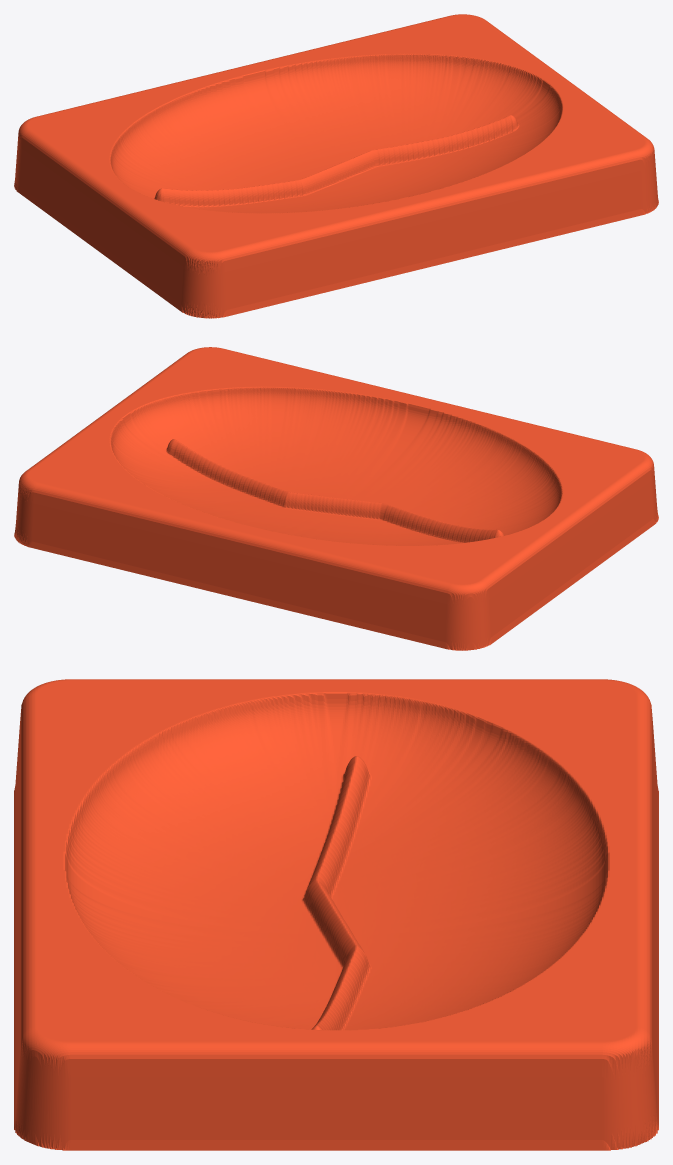
File: mold.glb
3 renders of one model, top to bottom at view 1: azimuth 30°, elevation 25°; view 2: azimuth 150°, elevation 25°; view 3: azimuth 270°, elevation 25°, orthographic. The views are drawn at different scales.
Parts seen in each view (by area): view 1: geometry_0; view 2: geometry_0; view 3: geometry_0.
Part boxes in pixels (<box>): geometry_0: <box>14,14,658,318</box>; geometry_0: <box>14,347,658,650</box>; geometry_0: <box>14,679,658,1150</box>.
Size of the model in its own units: 0.1435 by 0.0175 by 0.1029.
